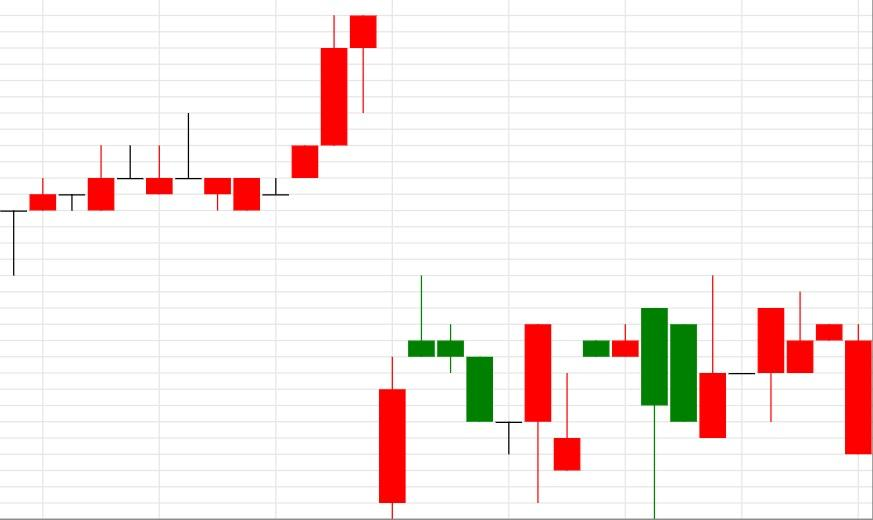bearish_engulfing_fall: (552, 306, 669, 519)
hanging_man_fall: (232, 14, 378, 211)
morning_star_rise: (408, 275, 552, 504)
